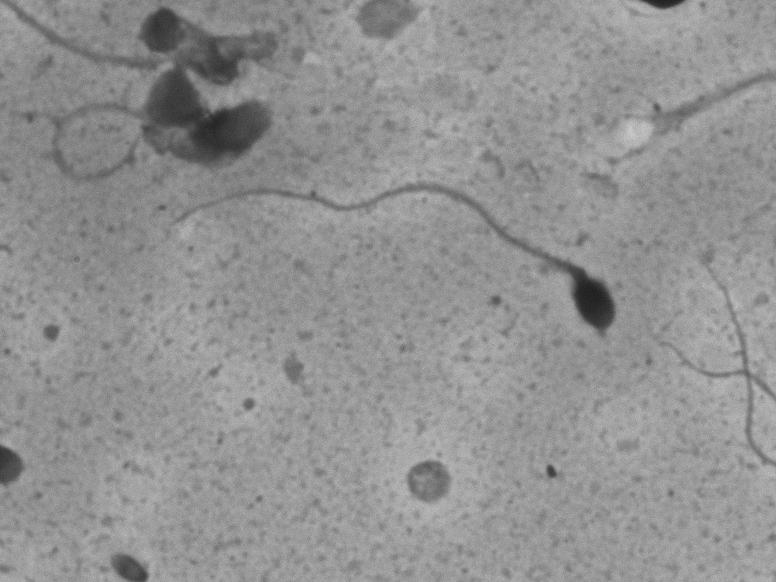Normal: (156, 176, 627, 341)
